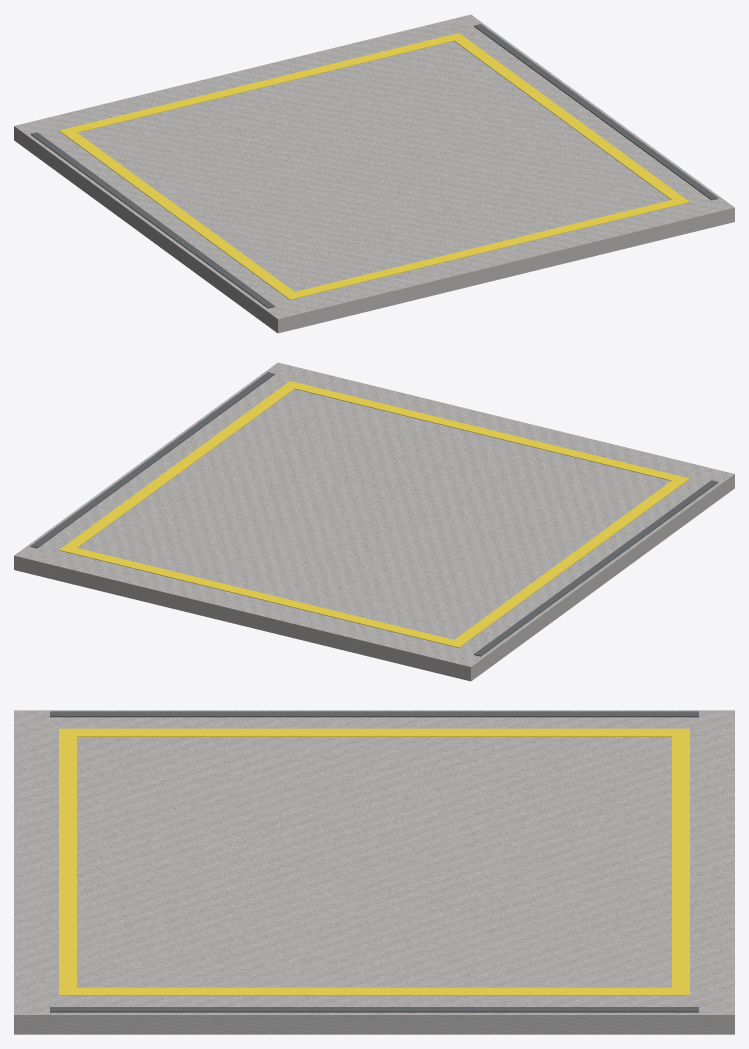
File: car-repair-garage-and-mot-workshop-car-repair-garage-a-eb16a6eb__33995.glb
The picture shows the model from 3 angles, top to bottom: view 1: azimuth 30°, elevation 25°; view 2: azimuth 150°, elevation 25°; view 3: azimuth 270°, elevation 25°; orthographic projection. The views are drawn at different scales.
Parts seen in each view (by area): view 1: car-repair-garage-and-mot-workshop-floor-tile-marked; view 2: car-repair-garage-and-mot-workshop-floor-tile-marked; view 3: car-repair-garage-and-mot-workshop-floor-tile-marked.
Part boxes in pixels (box(x1,y1,x2,y2)): car-repair-garage-and-mot-workshop-floor-tile-marked: box(14, 14, 734, 333); car-repair-garage-and-mot-workshop-floor-tile-marked: box(14, 362, 734, 681); car-repair-garage-and-mot-workshop-floor-tile-marked: box(14, 710, 734, 1034).
Bounding box in the file's own units: 4 × 0.1281 × 4.
3 materials, 1 textured.
